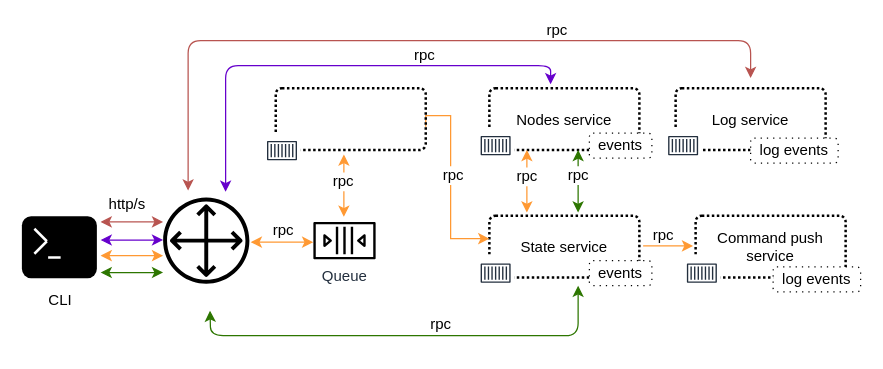
Image size: 883x369. Some labels were removed from this diagram. Here are the shapes that lost their labels. From the top down, the centre of each, then its label:
At (350,118): "Authentication & Authorization Service".
At (205,240): "Gateway".
